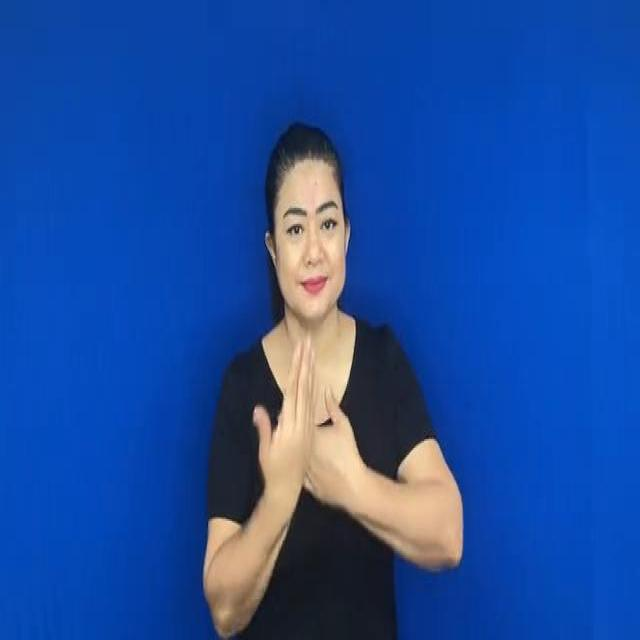bread: (252, 335, 371, 543)
